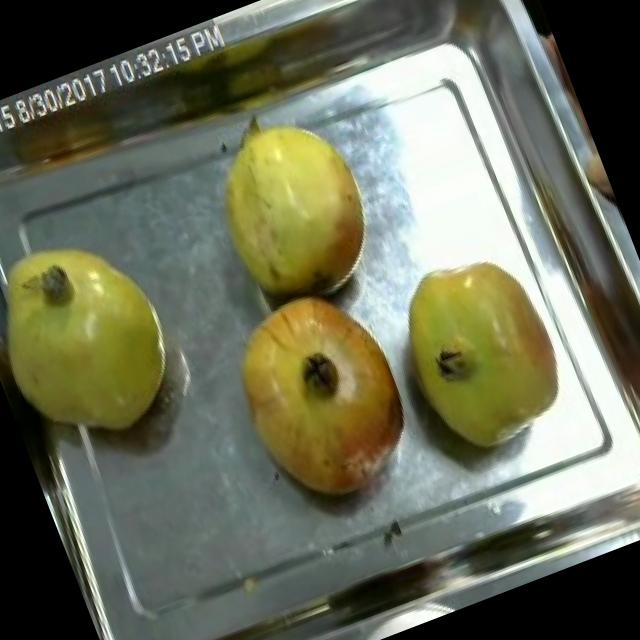fruit: (202, 266, 437, 530), (0, 201, 212, 479), (182, 84, 400, 332), (376, 233, 588, 480), (564, 125, 626, 232)
